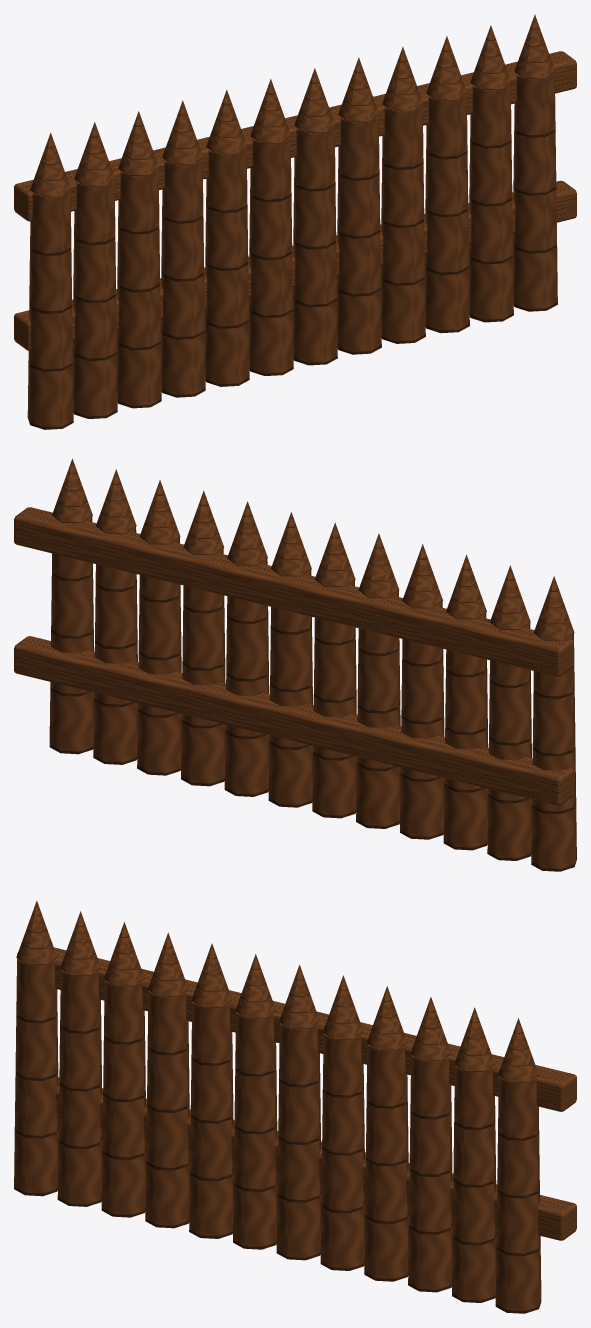
File: modular-survival-base-builder-half-height-palisade-c39c3f35__24233.glb
3 renders of one model, top to bottom at view 1: azimuth 30°, elevation 25°; view 2: azimuth 150°, elevation 25°; view 3: azimuth 330°, elevation 25°, orthographic.
Visible parts, largest first — view 1: half-height-palisade; view 2: half-height-palisade; view 3: half-height-palisade.
Part boxes in pixels (left/top/right/bottom): half-height-palisade: left=14, top=14, right=576, bottom=429; half-height-palisade: left=14, top=458, right=576, bottom=871; half-height-palisade: left=14, top=900, right=576, bottom=1313.
Size of the model in its own units: 2 by 1 by 0.1775.
1 material, 1 textured.
